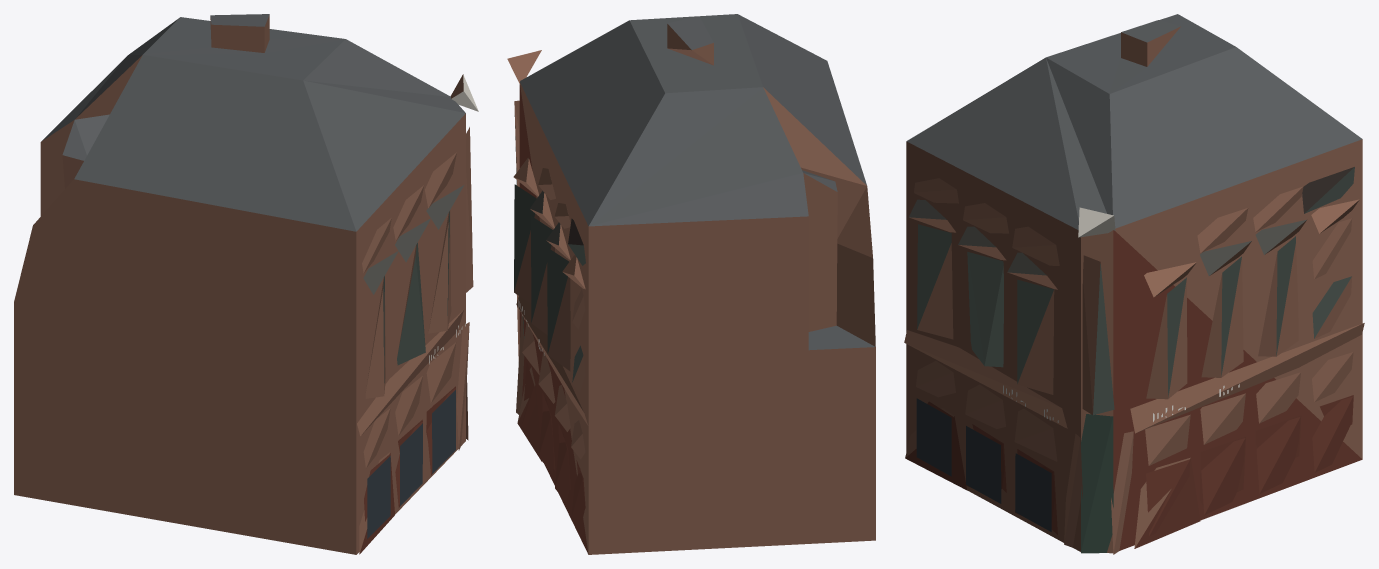
The model's file is dikker-thijs-leidsestraat.lod2.glb.
3 views of the same model, side by side, from view 1: azimuth 30°, elevation 25°; view 2: azimuth 150°, elevation 25°; view 3: azimuth 270°, elevation 25° (orthographic). The views are drawn at different scales.
Parts seen in each view (by area): view 1: lod2; view 2: lod2; view 3: lod2.
Part boxes in pixels (box(x1,y1,x2,y2)): lod2: box(14, 14, 478, 554); lod2: box(507, 14, 875, 554); lod2: box(904, 14, 1364, 554).
Bounding box in the file's own units: 25.96 × 26.94 × 25.93.
